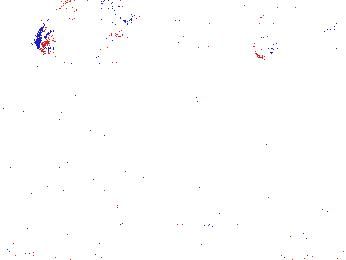moon jellyfish: (121, 1, 212, 81), (251, 1, 346, 61), (37, 1, 133, 56)
